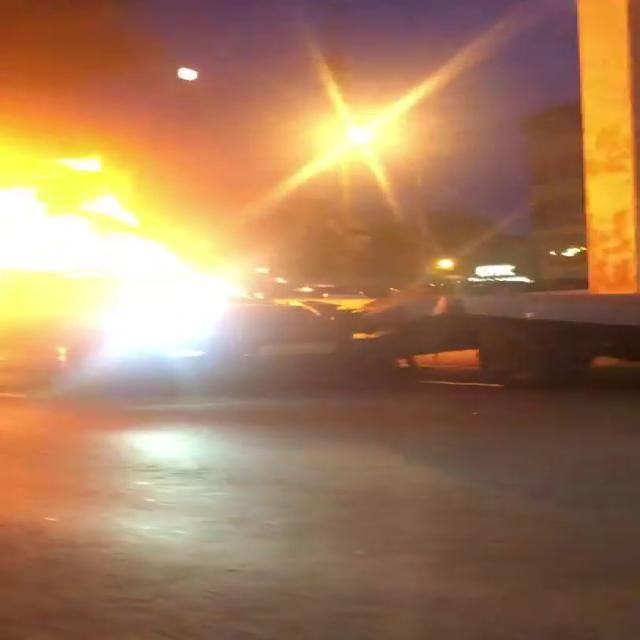Fire: (3, 118, 270, 364)
